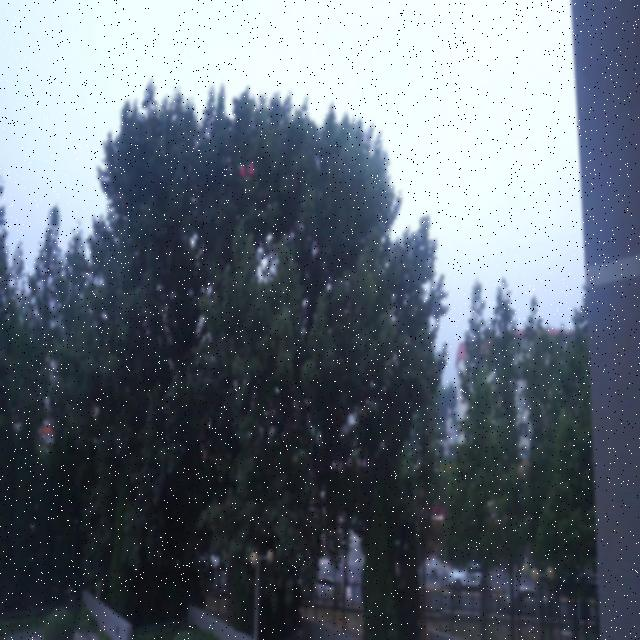UAV: (240, 164, 254, 180)
